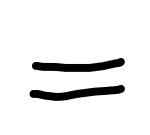eqv: (29, 56, 126, 102)
